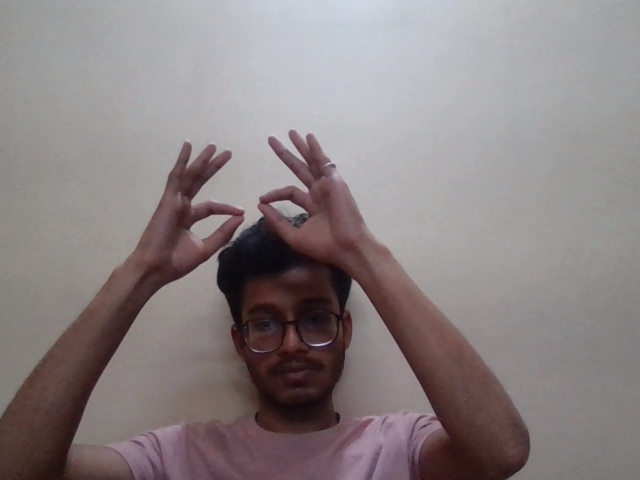nice: (164, 107, 367, 309)
